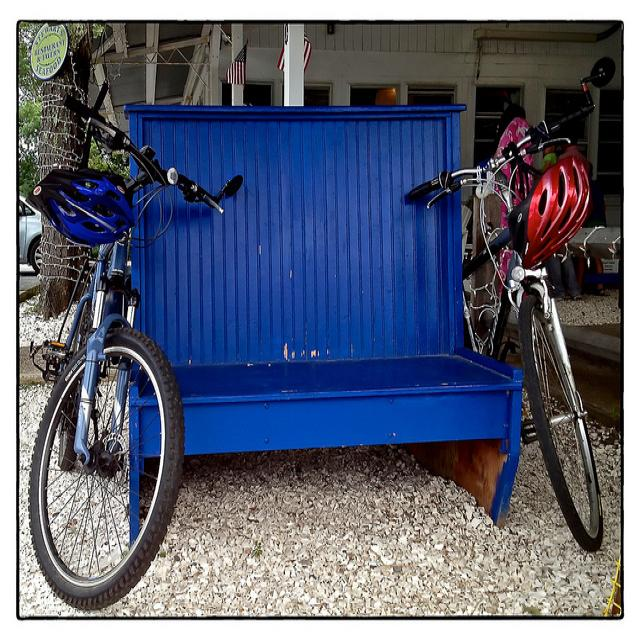Vehicle: (20, 194, 42, 275)
